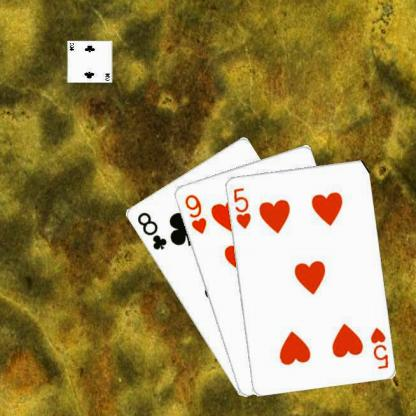5H: (230, 184, 252, 230), (367, 324, 389, 370)
8C: (134, 209, 168, 251)
9H: (182, 191, 208, 235)
